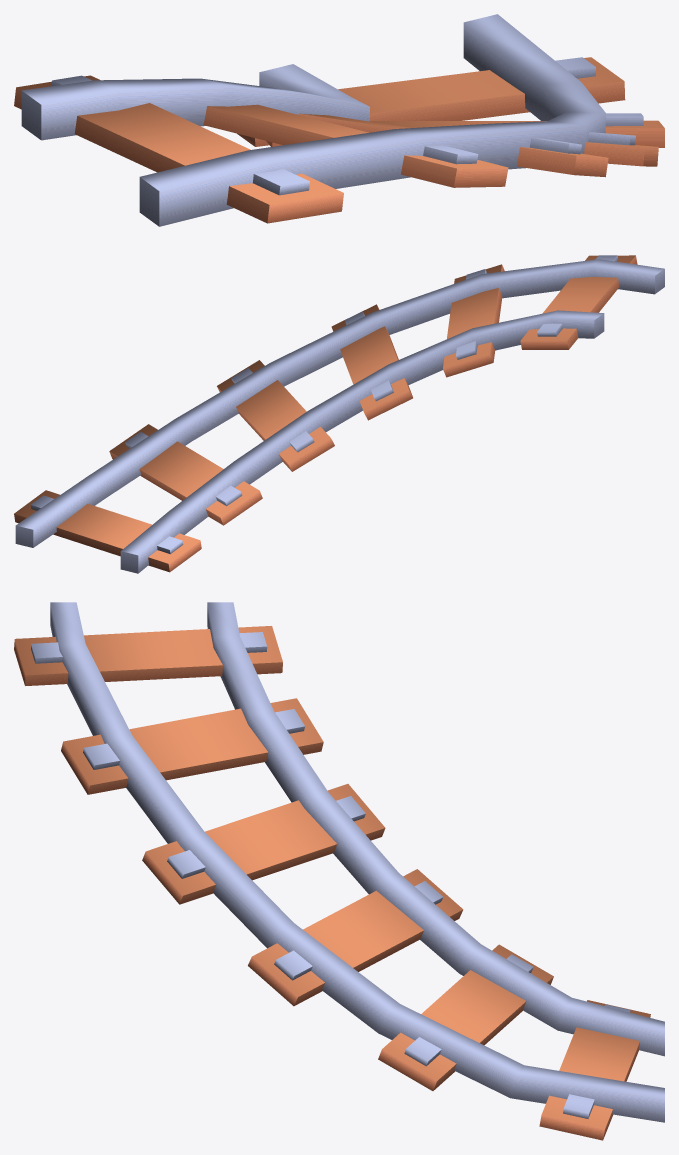
Rendered from railroad-corner-small-ramp.glb.
3 renders of one model, top to bottom at view 1: azimuth 30°, elevation 25°; view 2: azimuth 150°, elevation 25°; view 3: azimuth 270°, elevation 25°, orthographic. The views are drawn at different scales.
Visible parts, largest first — view 1: railroad-corner-small-ramp; view 2: railroad-corner-small-ramp; view 3: railroad-corner-small-ramp.
Boxes of the visible parts, bbox=[...] form: railroad-corner-small-ramp: bbox=[14, 14, 664, 226]; railroad-corner-small-ramp: bbox=[14, 255, 664, 573]; railroad-corner-small-ramp: bbox=[14, 602, 664, 1140].
Size of the model in its own units: 2.49 by 1.11 by 2.49.
Materials: 1 (1 with a texture image).
